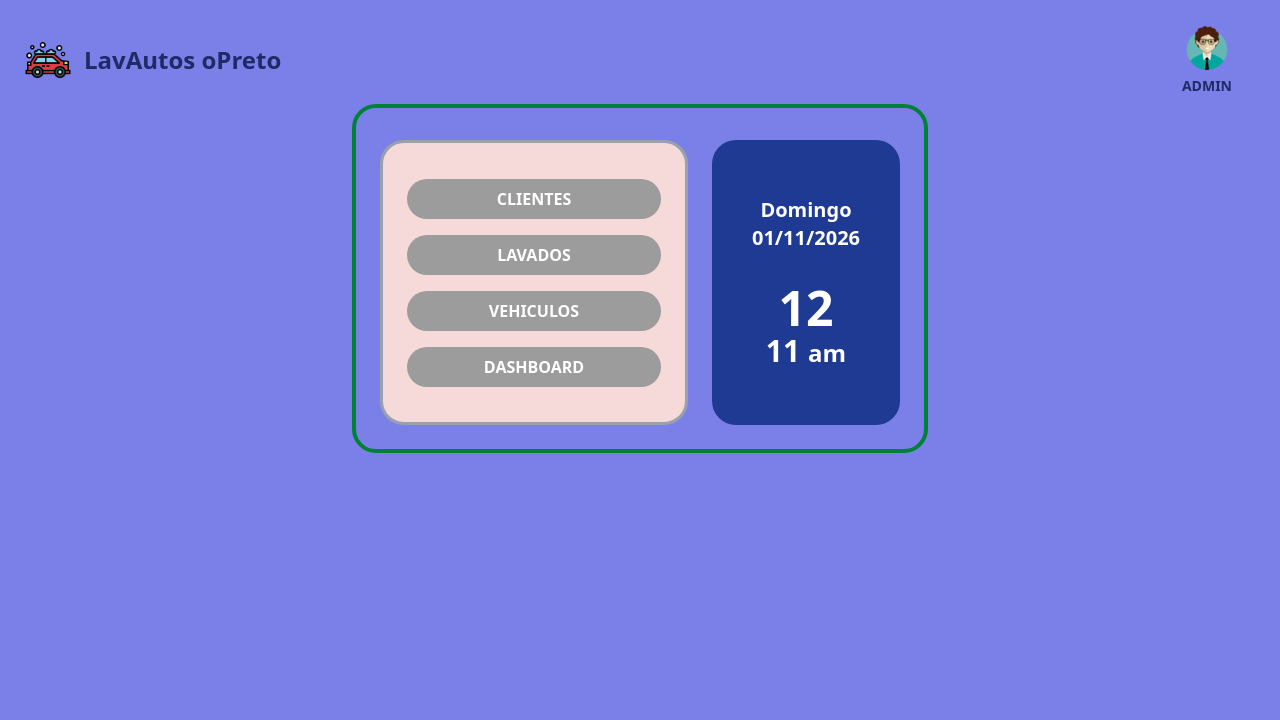
Test case: HomePage › el ícono de usuario abre el popup de cierre de sesión
This screenshot has width=1280, height=720.
Expected: the button "CLIENTES" is shown, [407,179,661,219]
What coordinates should you click on to do the following:
click the button named "usuario"
I would click on:
 (1207, 60)
Its box is [1182,24,1232,96].
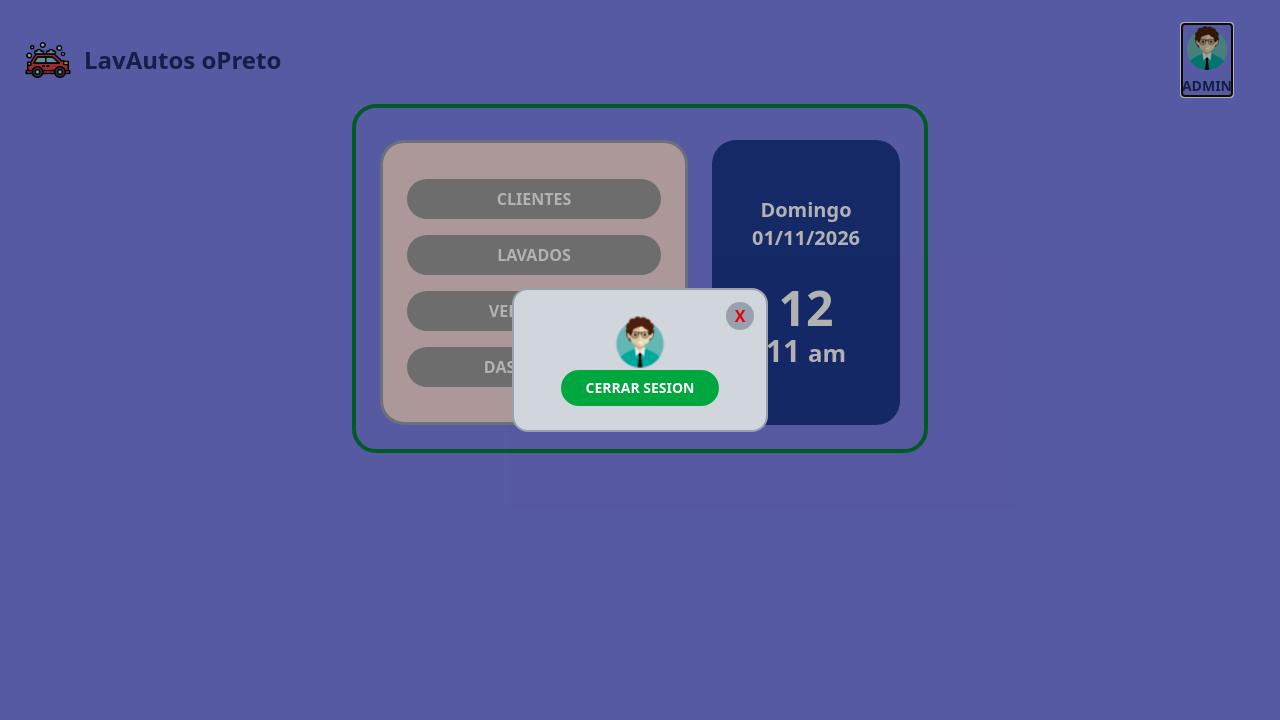
Now the button "CERRAR SESION" is shown, box [562,370,718,406]
Now the button named "Cancelar" is shown, box [726,302,754,330]
